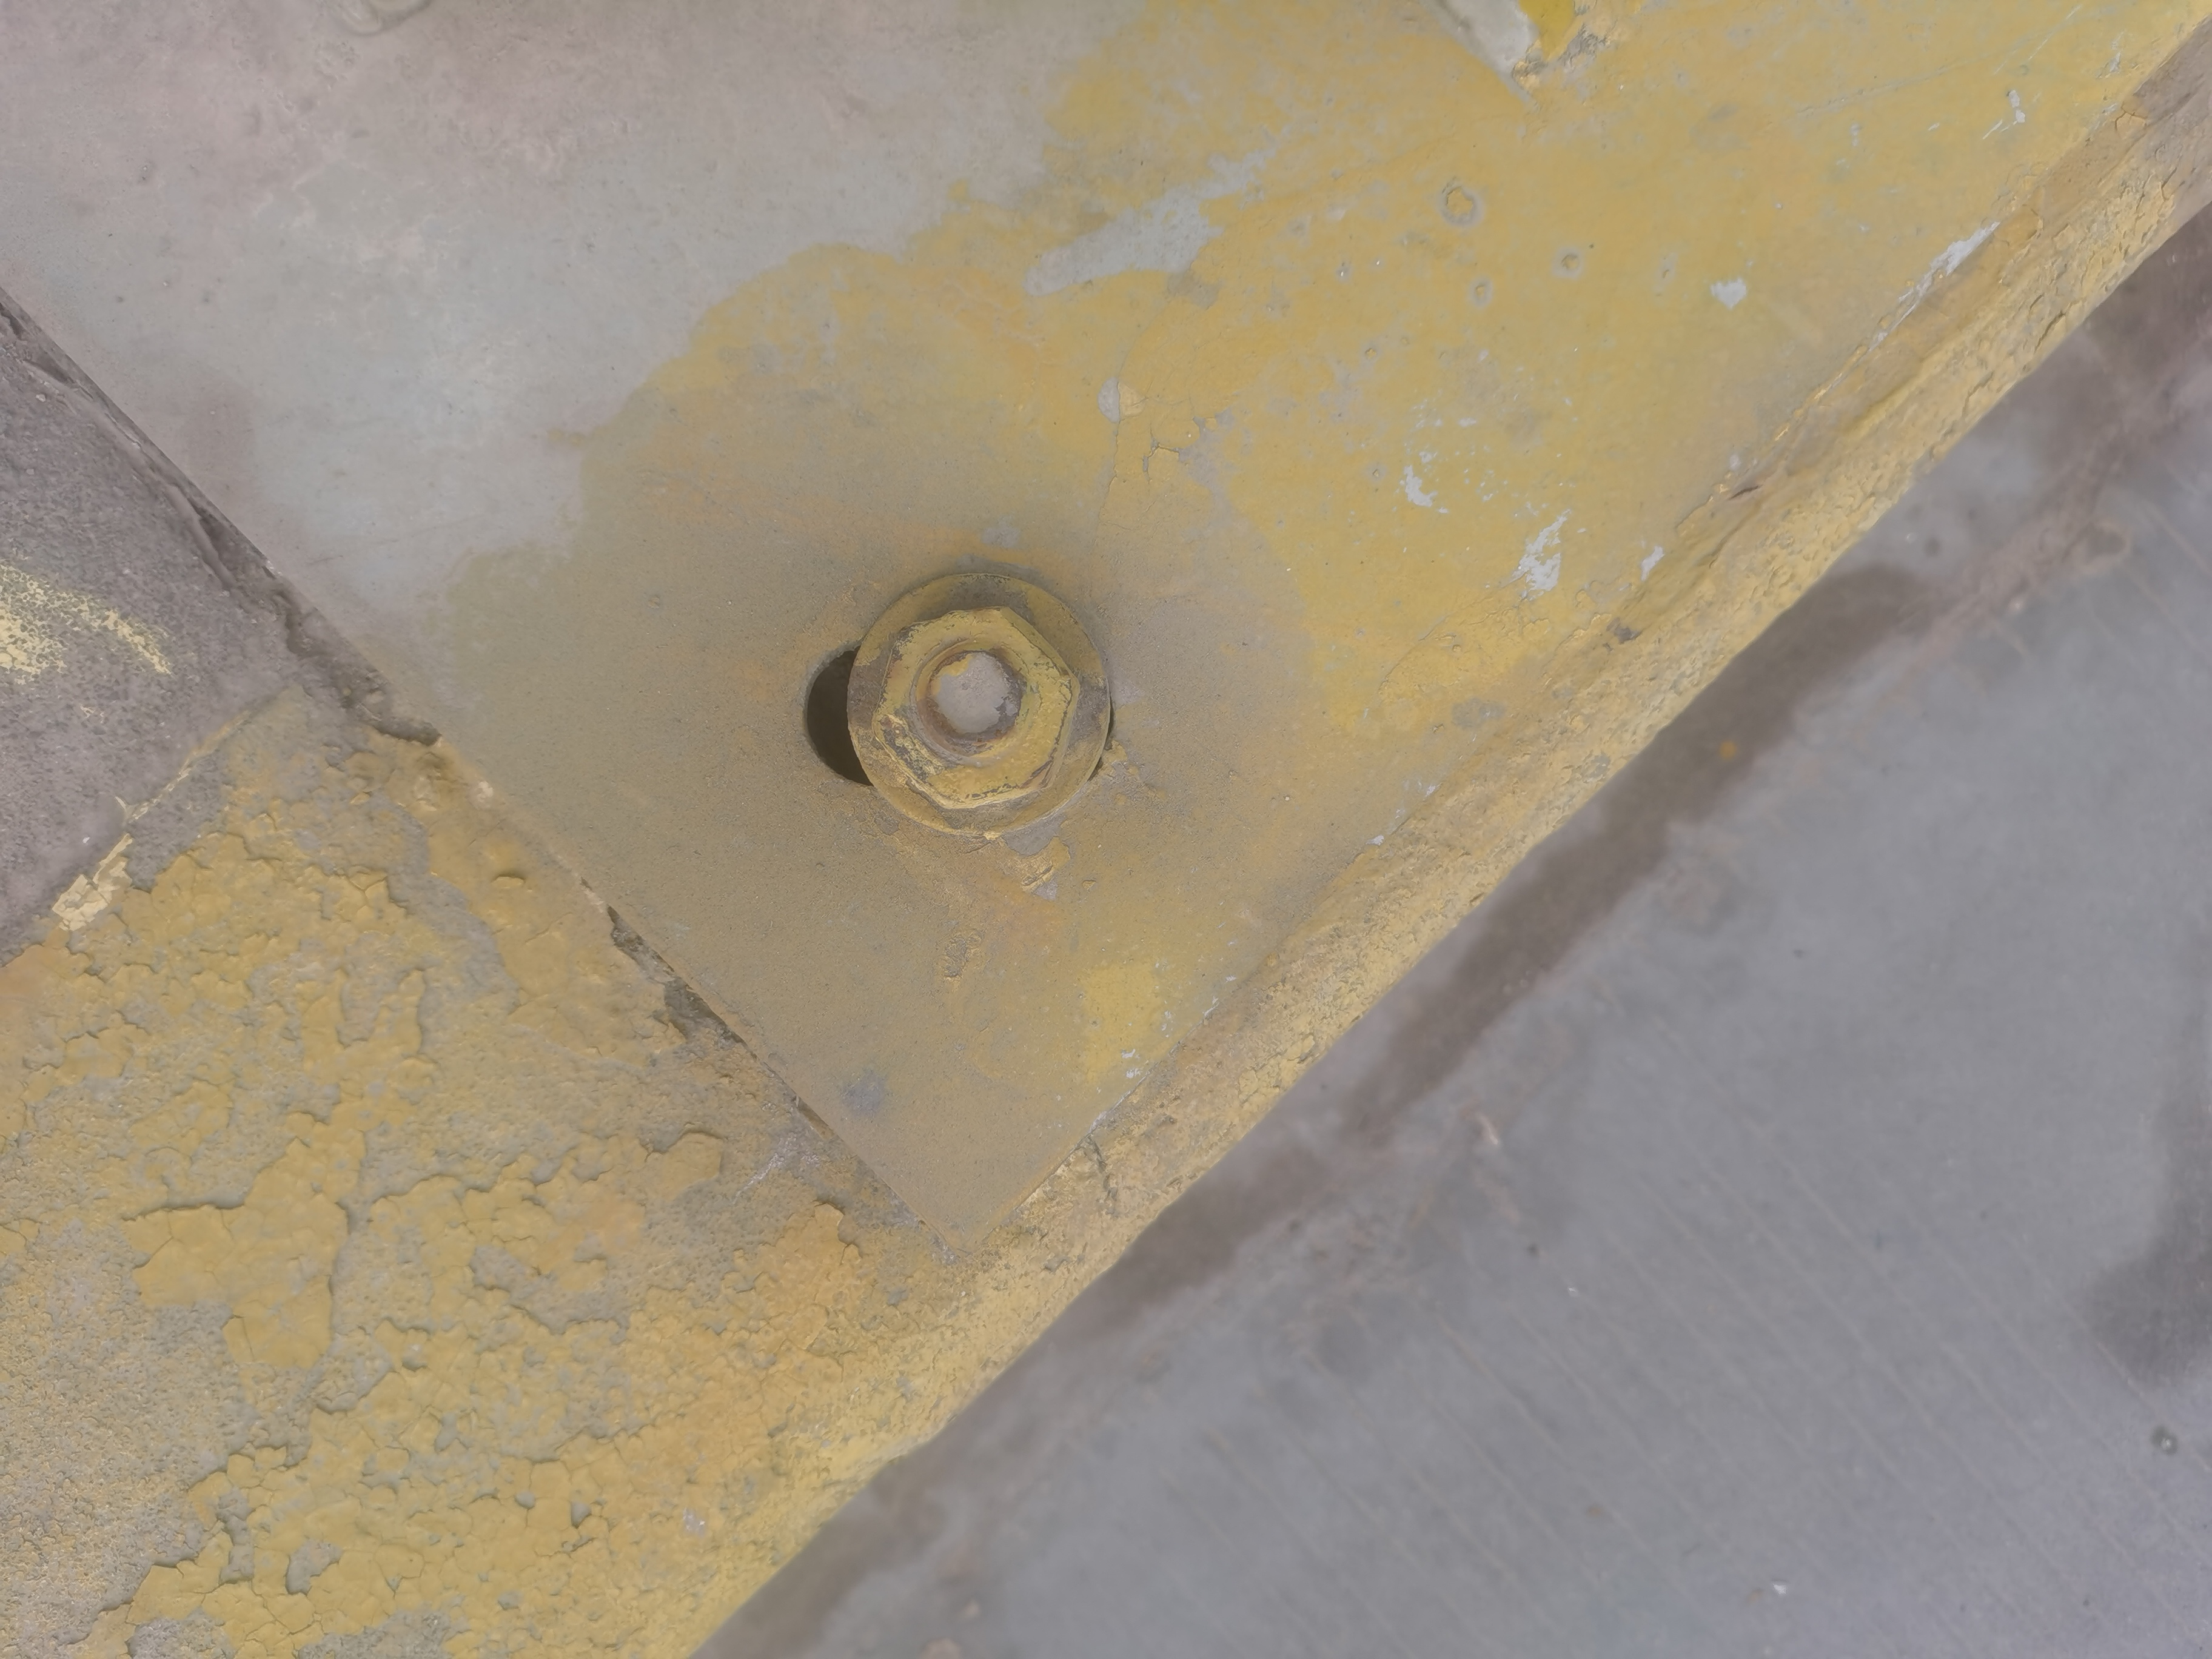bolt_b: (860, 598, 1090, 817)
